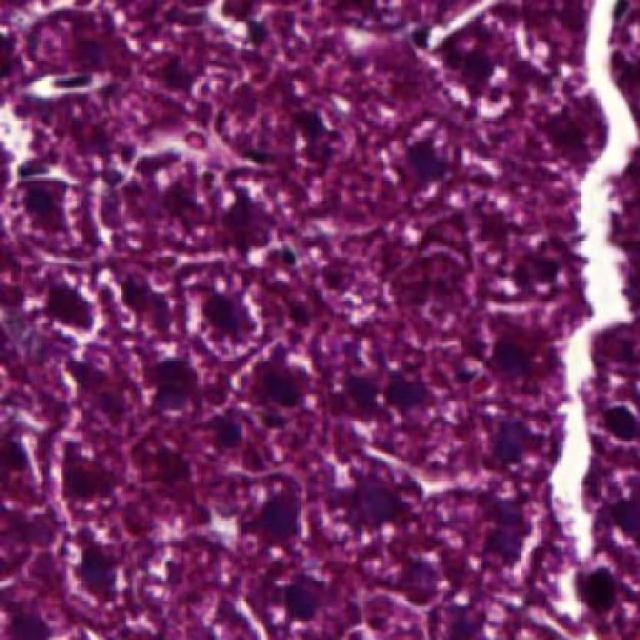inflammation: (5, 166, 103, 256), (180, 275, 268, 371), (432, 17, 513, 117)
